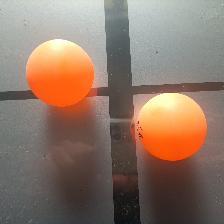YellowBall: (136, 92, 207, 163), (25, 39, 95, 108)
